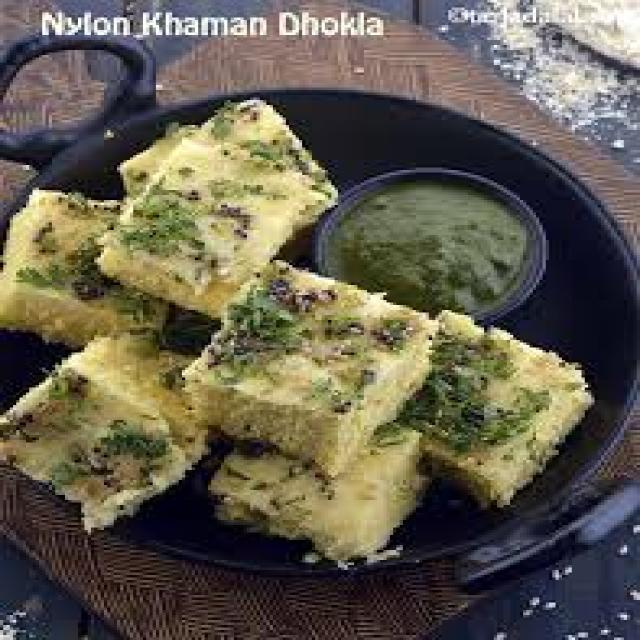DHOKLA: (0, 94, 601, 567)
